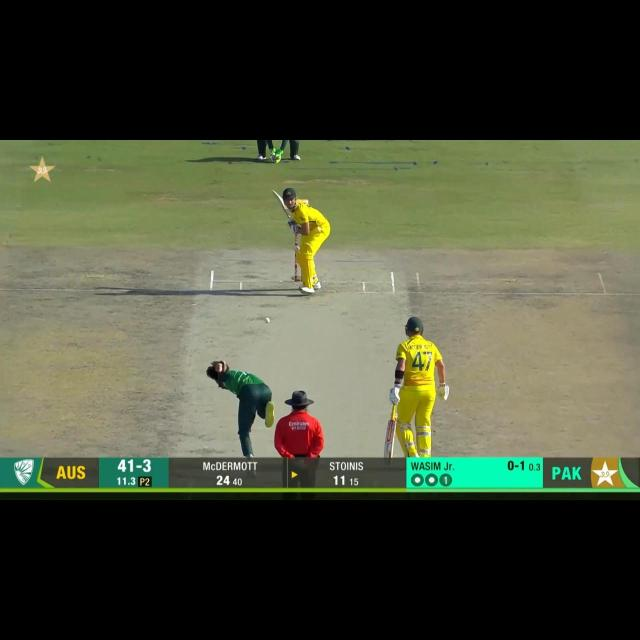bat: (272, 190, 294, 222), (382, 419, 400, 458)
toe: (272, 189, 280, 198)
